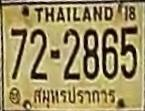2: (62, 28, 80, 80), (30, 28, 47, 80)
5: (120, 26, 137, 79)
6: (101, 28, 117, 78)
7: (10, 28, 28, 80)
8: (82, 29, 98, 78)
SPK: (30, 85, 117, 107)
